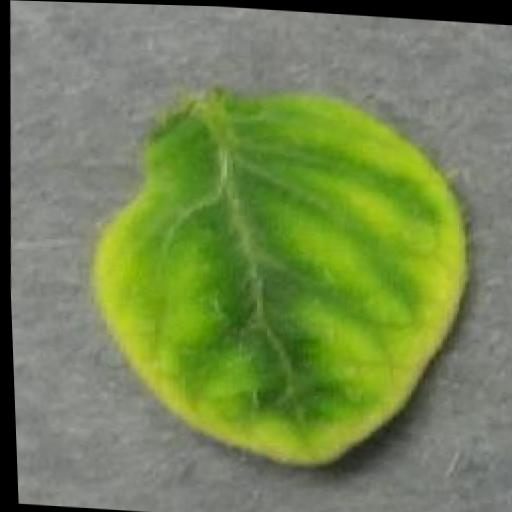Yellow Leaf Curl Virus: (75, 69, 478, 477)
